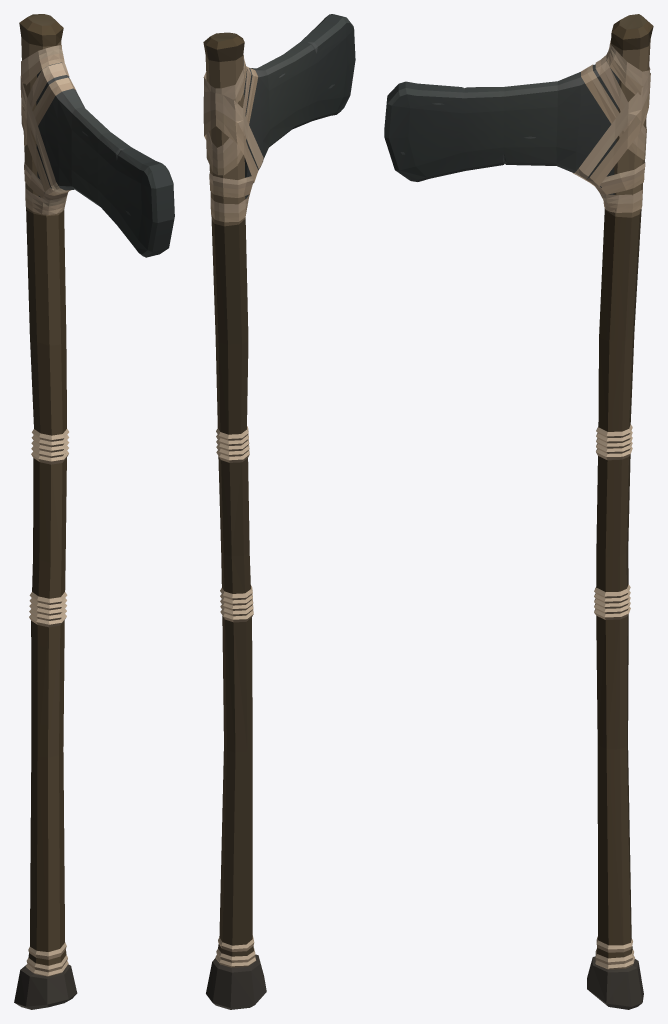
Rendered from bluntHeavyAncientEgyptianAxe.glb.
3 views of the same model, side by side, from view 1: azimuth 30°, elevation 25°; view 2: azimuth 150°, elevation 25°; view 3: azimuth 270°, elevation 25° (orthographic).
Visible parts, largest first — view 1: bluntHeavyAncientEgyptianAxe; view 2: bluntHeavyAncientEgyptianAxe; view 3: bluntHeavyAncientEgyptianAxe.
Part boxes in pixels (left/top/right/bottom): bluntHeavyAncientEgyptianAxe: left=14, top=14, right=174, bottom=1009; bluntHeavyAncientEgyptianAxe: left=203, top=14, right=355, bottom=1009; bluntHeavyAncientEgyptianAxe: left=384, top=14, right=653, bottom=1009.
Bounding box in the file's own units: 0.0748 × 1.36 × 0.3364.
